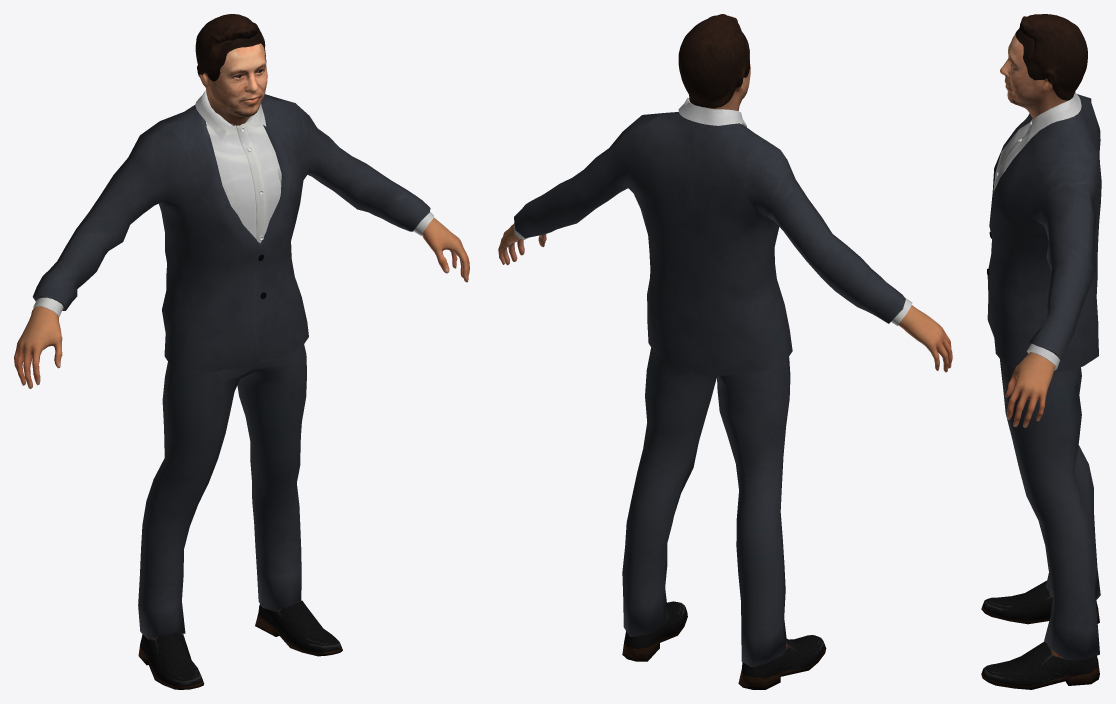
Rendered from alex_hrd.glb.
The picture shows the model from 3 angles, left to right: view 1: azimuth 30°, elevation 25°; view 2: azimuth 150°, elevation 25°; view 3: azimuth 270°, elevation 25°; orthographic projection.
Visible parts, largest first — view 1: Object_7, Object_3, Object_8, Object_6, Object_2, Object_5, Object_4; view 2: Object_7, Object_3, Object_4, Object_6, Object_2, Object_8; view 3: Object_7, Object_3, Object_6, Object_4, Object_2, Object_5, Object_8.
Part boxes in pixels (x1,y1,x2,y2): Object_7: [33, 94, 430, 371]; Object_3: [138, 344, 306, 639]; Object_8: [33, 90, 433, 316]; Object_6: [138, 600, 342, 689]; Object_2: [14, 121, 469, 388]; Object_5: [199, 43, 267, 125]; Object_4: [195, 14, 266, 87]; Object_7: [514, 112, 905, 375]; Object_3: [622, 347, 790, 667]; Object_4: [678, 14, 749, 108]; Object_6: [622, 601, 826, 689]; Object_2: [498, 223, 952, 372]; Object_8: [513, 98, 912, 325]; Object_7: [987, 94, 1101, 373]; Object_3: [1000, 359, 1100, 659]; Object_6: [981, 580, 1099, 689]; Object_4: [1015, 14, 1087, 100]; Object_2: [1005, 352, 1055, 427]; Object_5: [1000, 34, 1067, 119]; Object_8: [993, 91, 1081, 370].
Size of the model in its own units: 1.33 by 1.81 by 0.3127.
7 materials, 7 textured.
